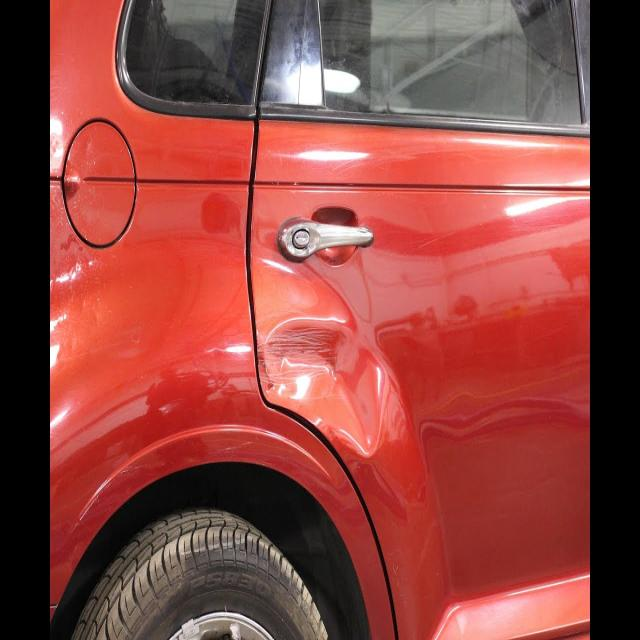dent: (257, 299, 426, 510)
scratch: (257, 324, 343, 404), (70, 464, 148, 534), (214, 440, 266, 465)
